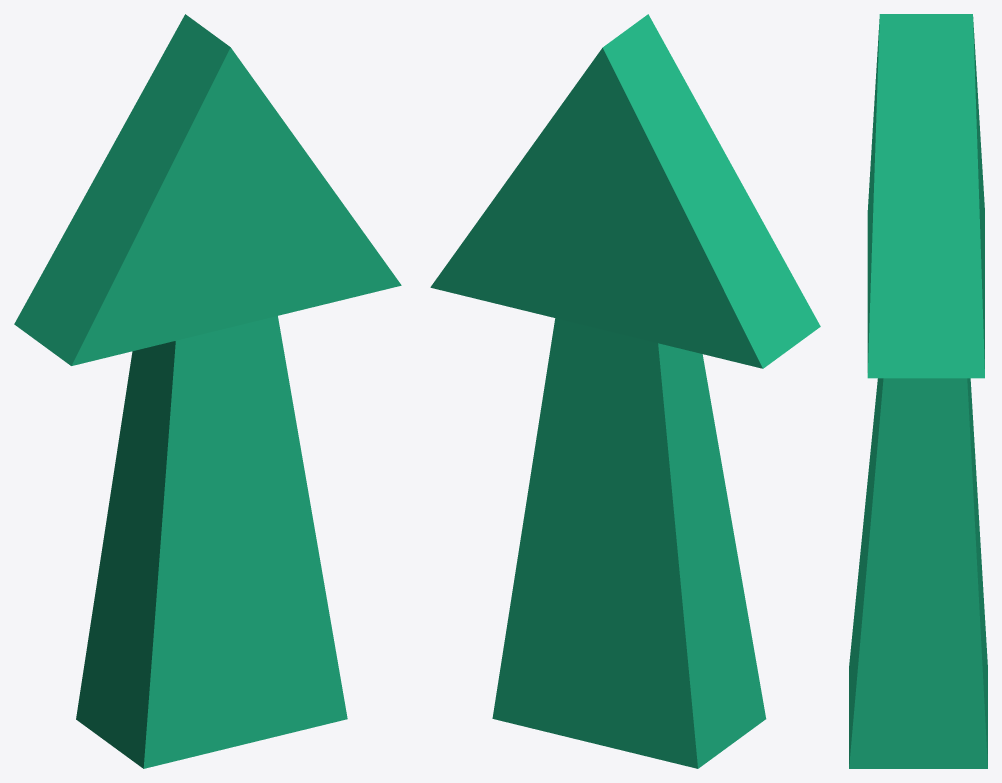
Rendered from ArrowNeww 1.fbx.
3 renders of one model, left to right at view 1: azimuth 30°, elevation 25°; view 2: azimuth 150°, elevation 25°; view 3: azimuth 270°, elevation 25°, orthographic. The views are drawn at different scales.
Parts seen in each view (by area): view 1: Cube; view 2: Cube; view 3: Cube.
Part boxes in pixels (x1,y1,x2,y2): Cube: (14,14,401,768); Cube: (430,14,820,768); Cube: (849,14,987,768).
Bounding box in the file's own units: 50.43 × 100 × 17.89.
